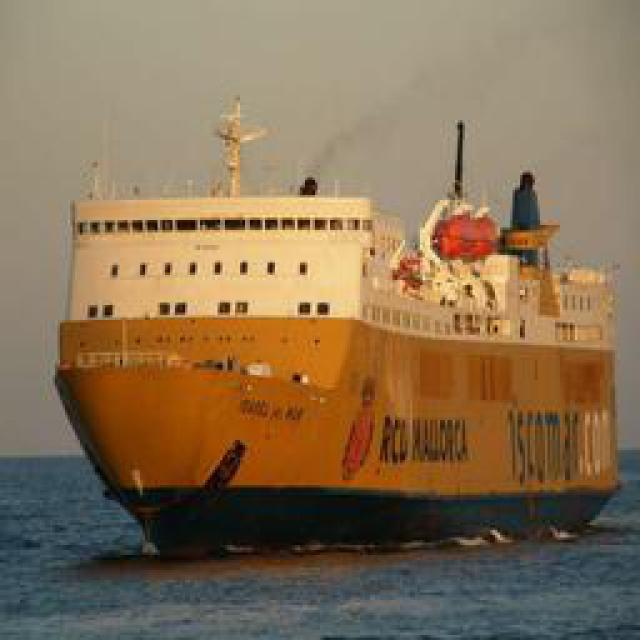Ship: (43, 160, 628, 543)
